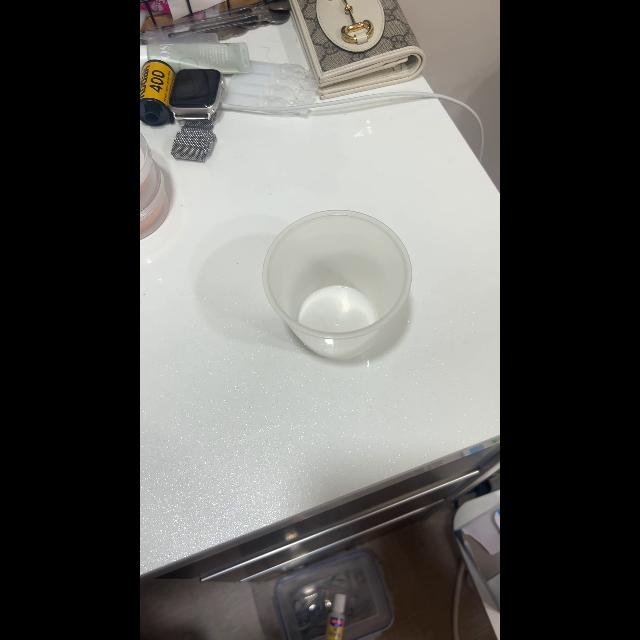clean: (262, 208, 414, 358)
